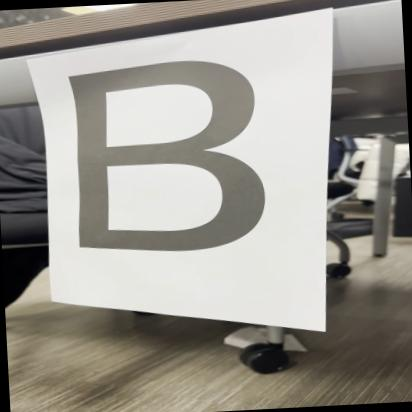seat: (48, 48, 300, 280)
